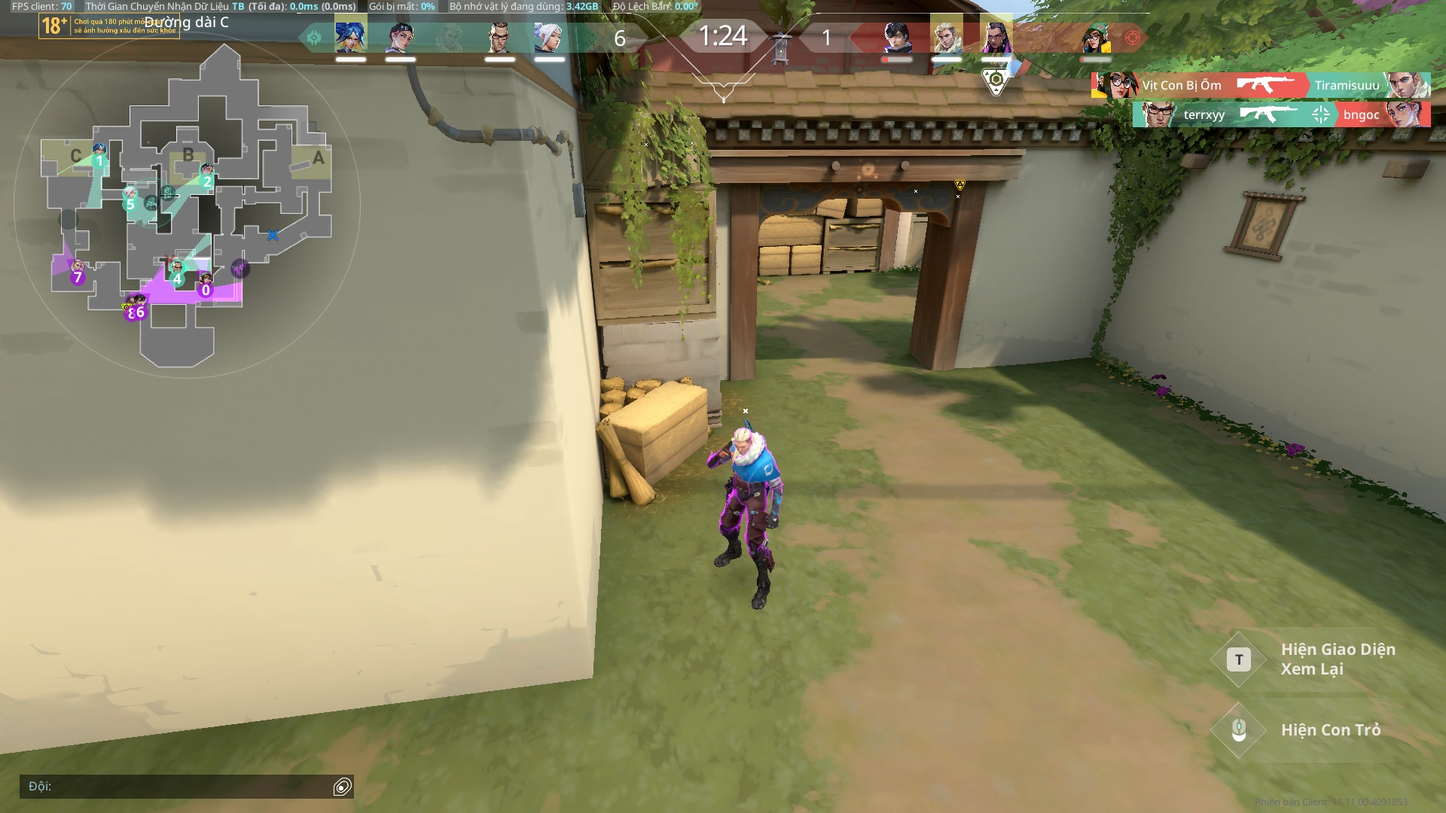body: (725, 442, 776, 485)
head: (730, 423, 754, 451)
